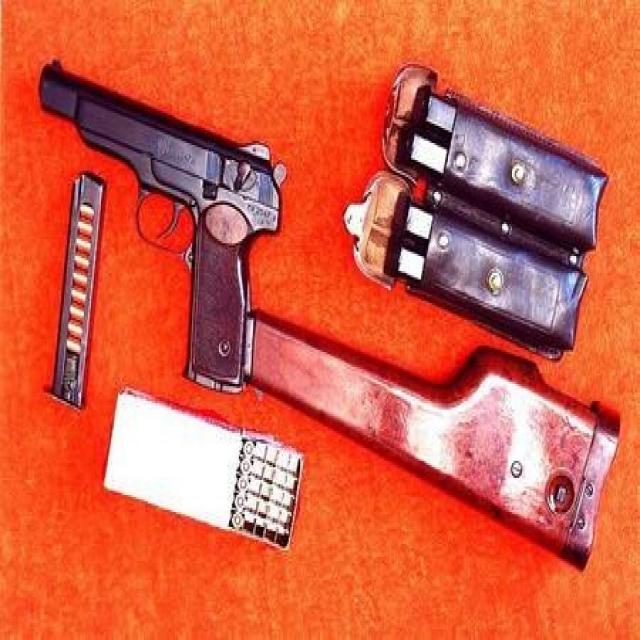gun: (18, 61, 278, 398)
